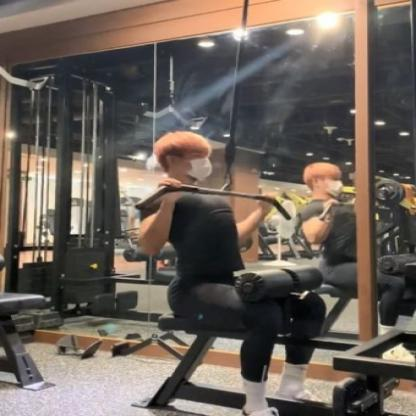Lat Pull Down: (100, 0, 416, 416)
